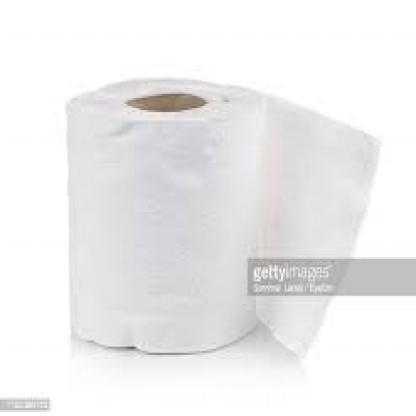tissue: (61, 76, 335, 354)
